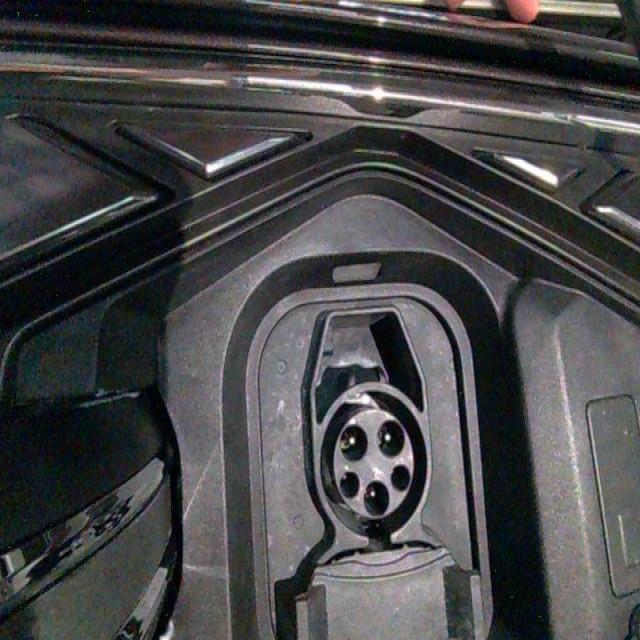Type 1: (311, 371, 448, 542)
